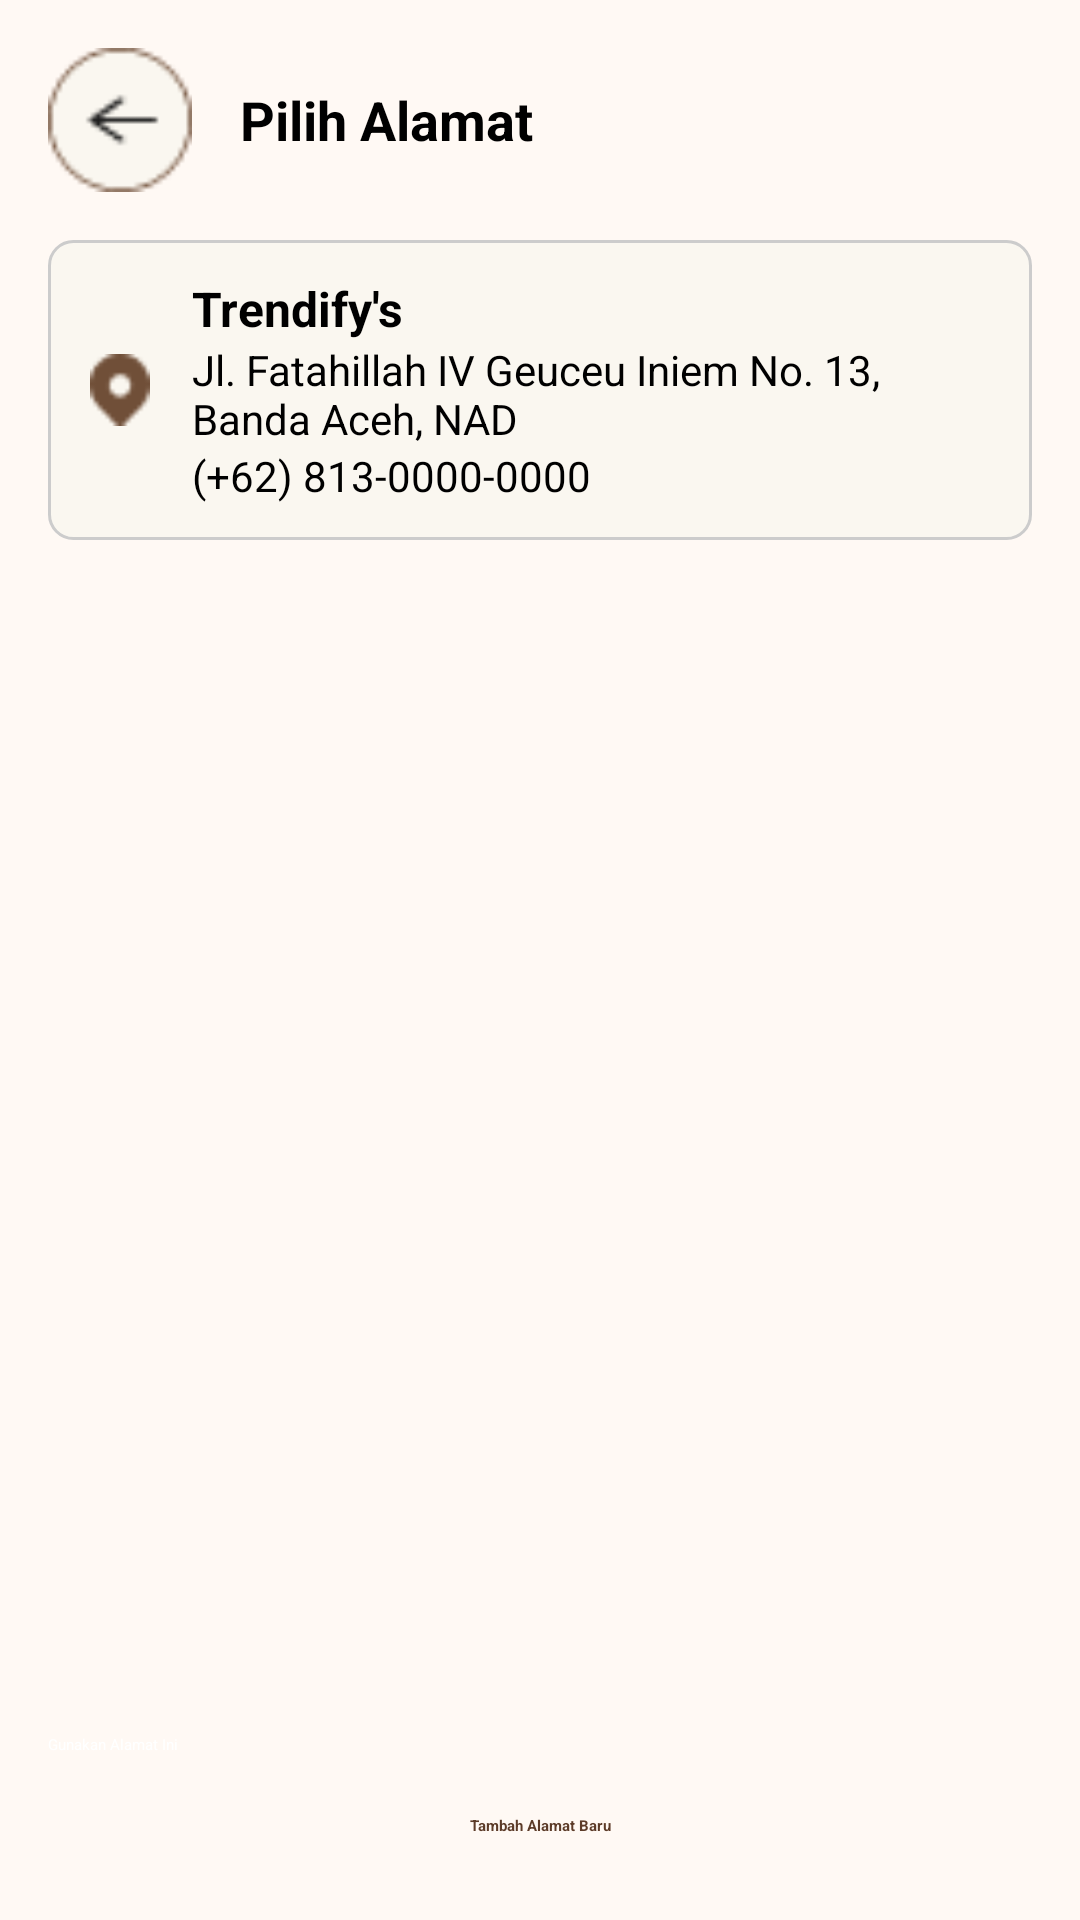

Where icons sit on this 1080×1920 app screen, as bbox=[x1, y1, x2, y2]:
Alamat: bbox=[90, 354, 150, 426]
Kembali: bbox=[48, 48, 192, 192]
